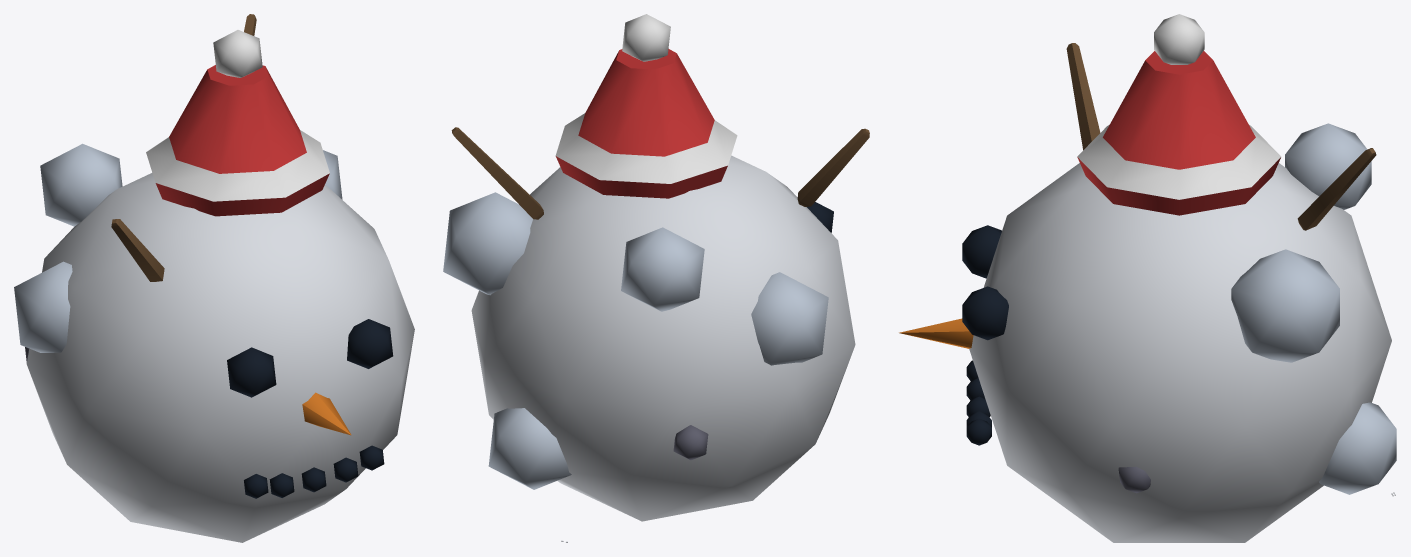
The model's file is e_eis_lawinenroller.glb.
3 renders of one model, left to right at view 1: azimuth 30°, elevation 25°; view 2: azimuth 150°, elevation 25°; view 3: azimuth 270°, elevation 25°, orthographic. The views are drawn at different scales.
Parts seen in each view (by area): view 1: body; view 2: body; view 3: body.
Part boxes in pixels (x1,y1,x2,y2): body: (14, 14, 414, 542); body: (443, 14, 869, 542); body: (899, 14, 1396, 542).
Size of the model in its own units: 1.01 by 1.37 by 1.17.
